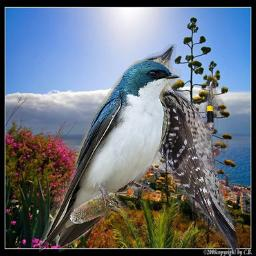Swallow: (39, 60, 181, 252)
Woodpecker: (130, 44, 240, 254)
